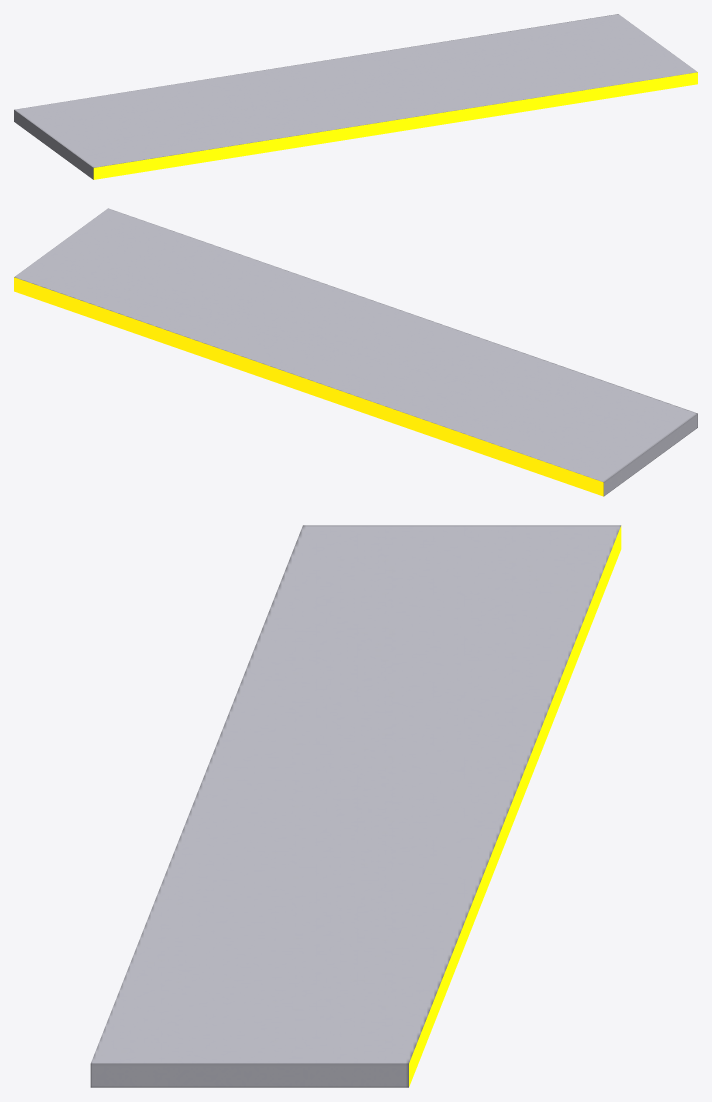
Rendered from Roof_Line_02.FBX.
3 renders of one model, top to bottom at view 1: azimuth 30°, elevation 25°; view 2: azimuth 150°, elevation 25°; view 3: azimuth 270°, elevation 25°, orthographic. The views are drawn at different scales.
Visible parts, largest first — view 1: Roof_Line_02; view 2: Roof_Line_02; view 3: Roof_Line_02.
Boxes of the visible parts, x1,y1,x2,y2 form: Roof_Line_02: [14, 14, 697, 179]; Roof_Line_02: [14, 208, 697, 496]; Roof_Line_02: [90, 525, 621, 1087].
Bounding box in the file's own units: 12 × 0.25 × 5.
